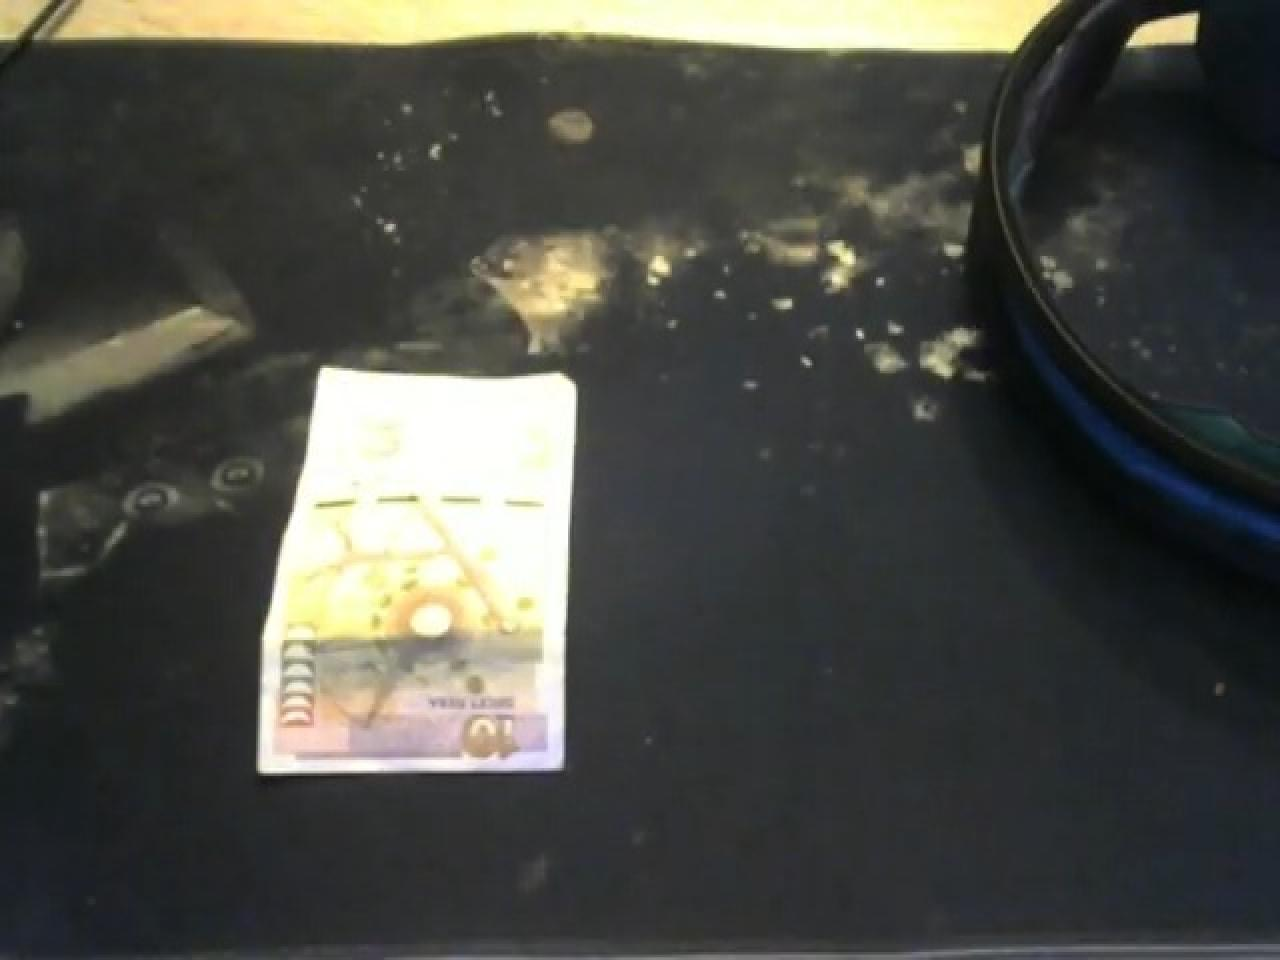10leva: (254, 371, 577, 782)
